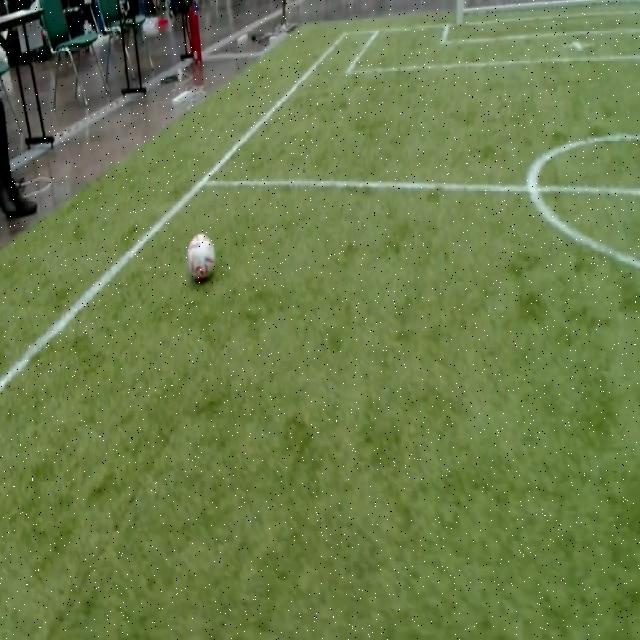ball: (188, 233, 215, 279)
goalpost: (455, 4, 465, 28)
